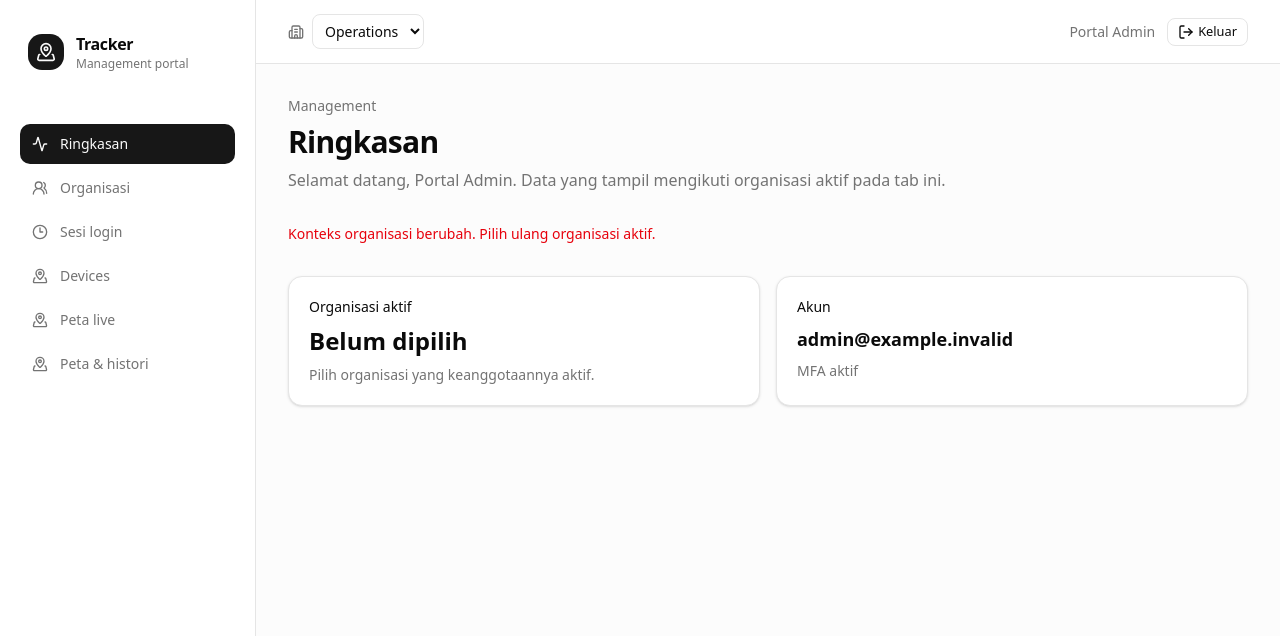
tracking management portal › explains active-session conflicts returned by the API
This screenshot has width=1280, height=636.
Click the link "Devices" at (71, 276), box [32,266,110,285]
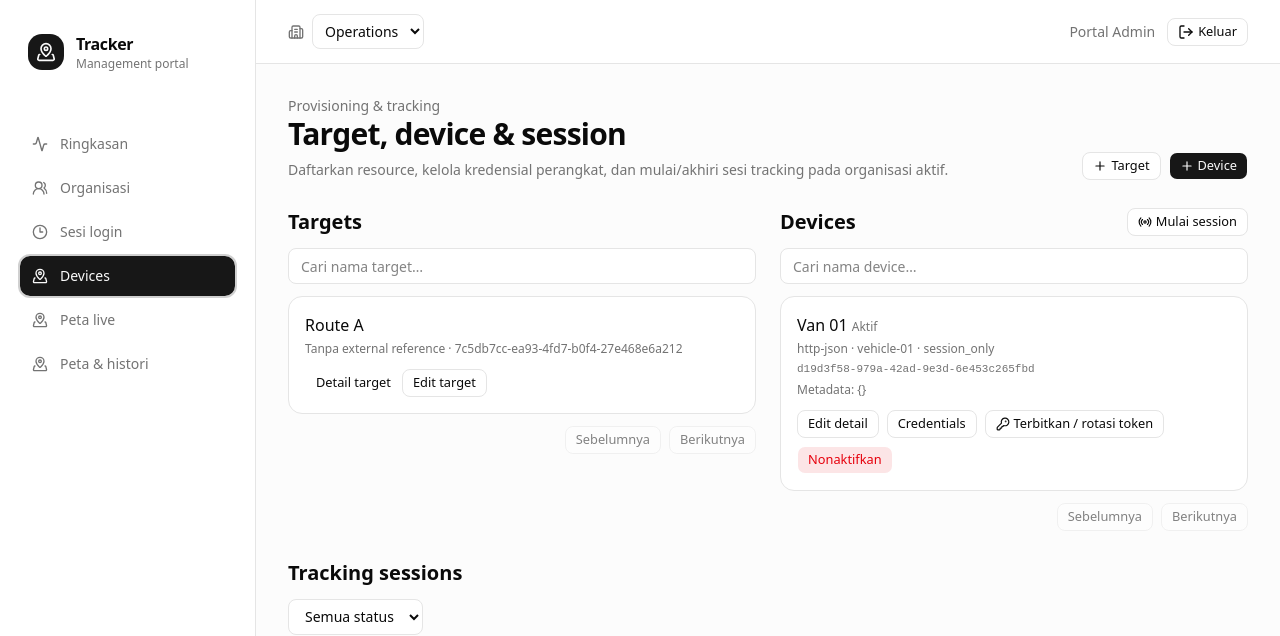
Click the button "Mulai session" at (1187, 222), box [1127,208,1248,236]
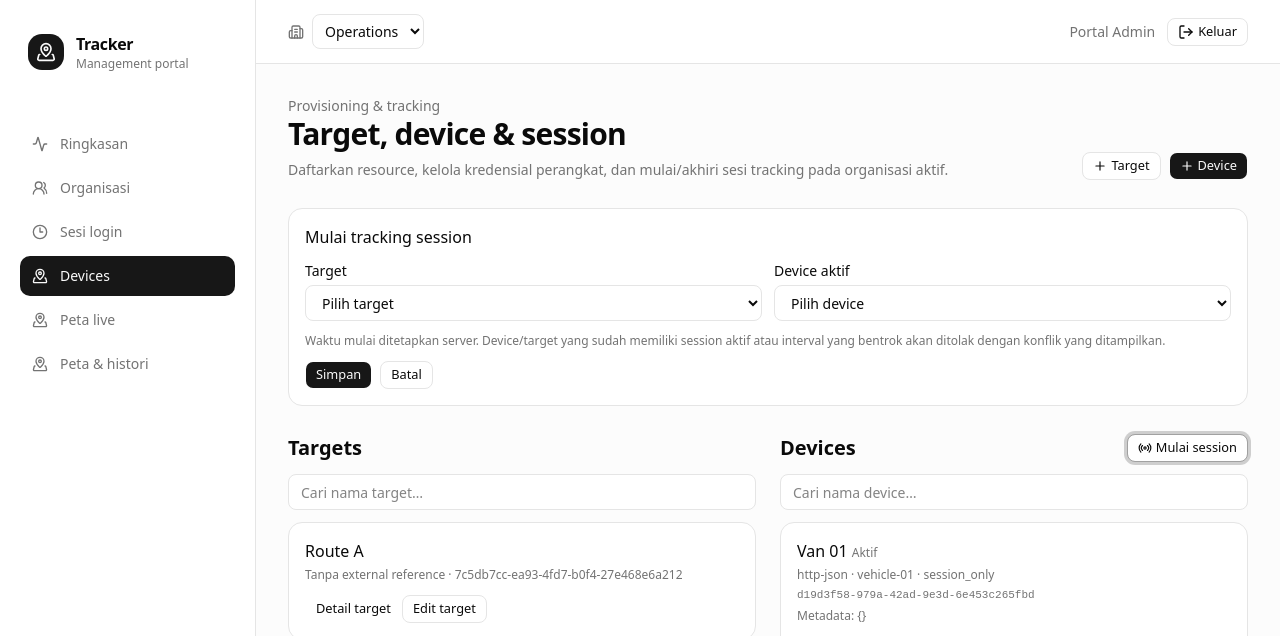
Select "Route A" in the dropdown labelled "Target" at (534, 303), box [305,285,762,321]
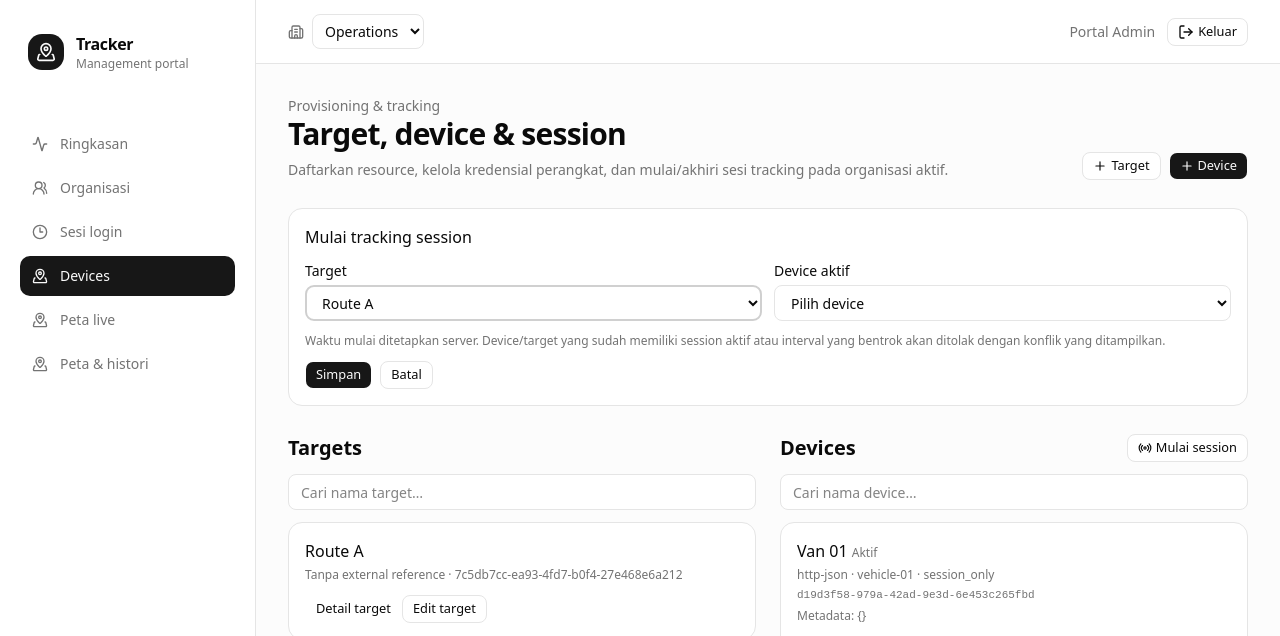
Select "Van 01" in the dropdown labelled "Device aktif" at (1002, 303), box [774,285,1231,321]
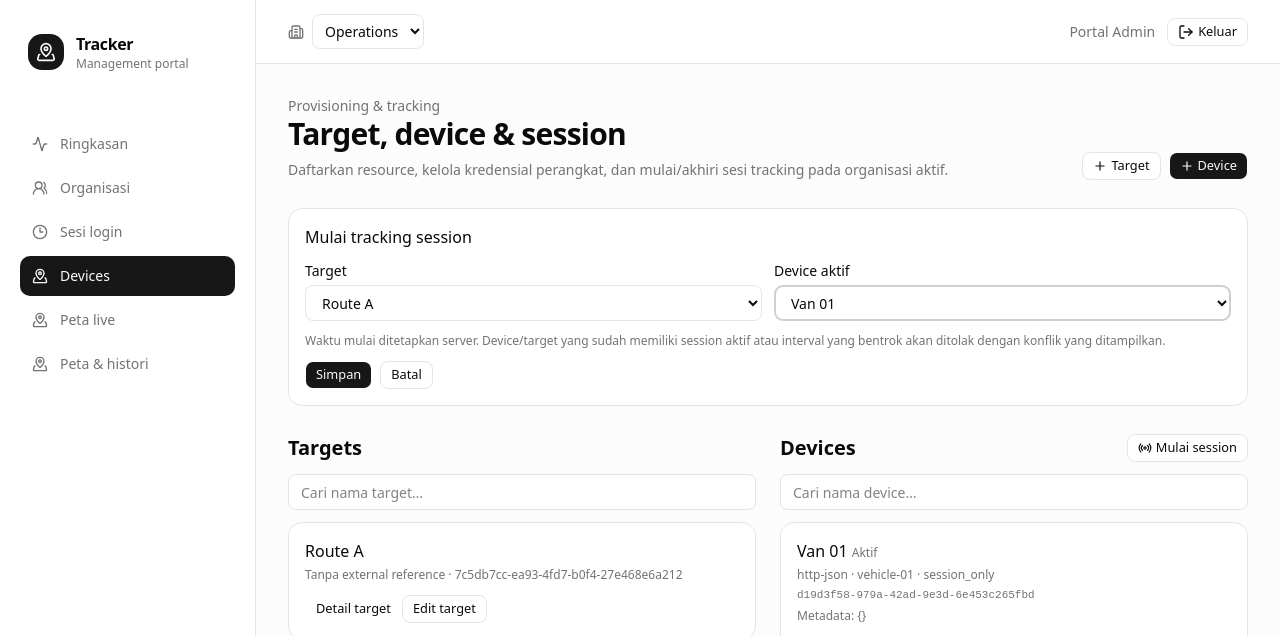
Click the button "Simpan" at (339, 375), box [305,361,372,389]
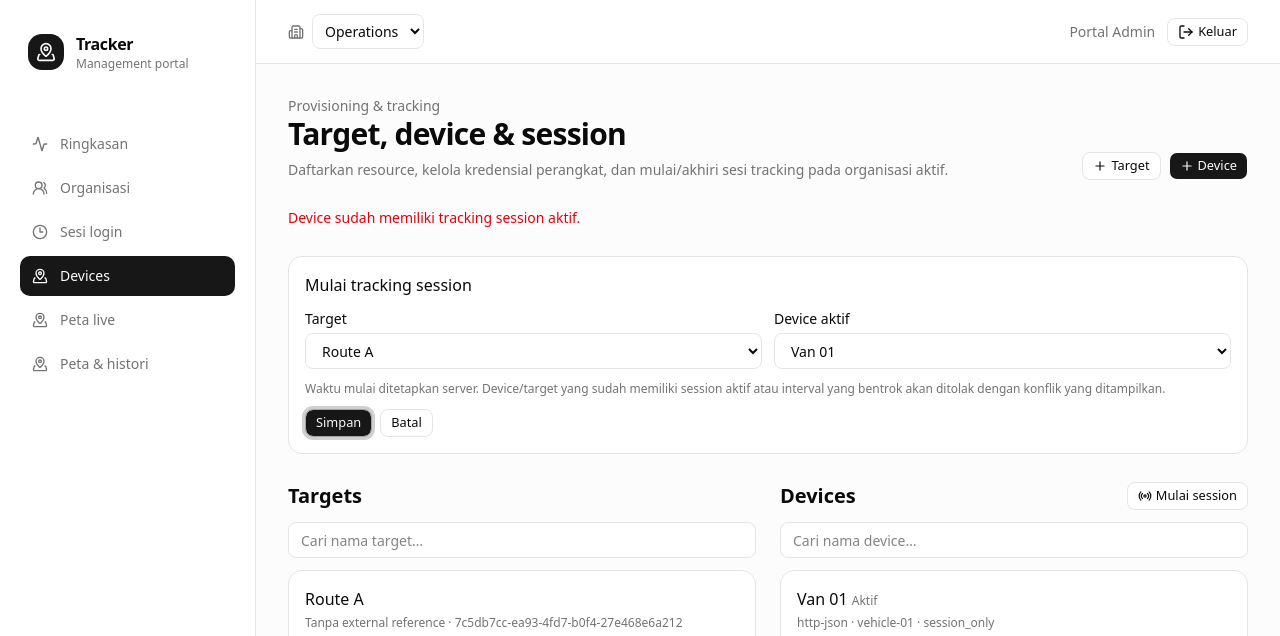
Expected: the message reads "Device sudah memiliki tracking session aktif.", [288,208,580,227]
